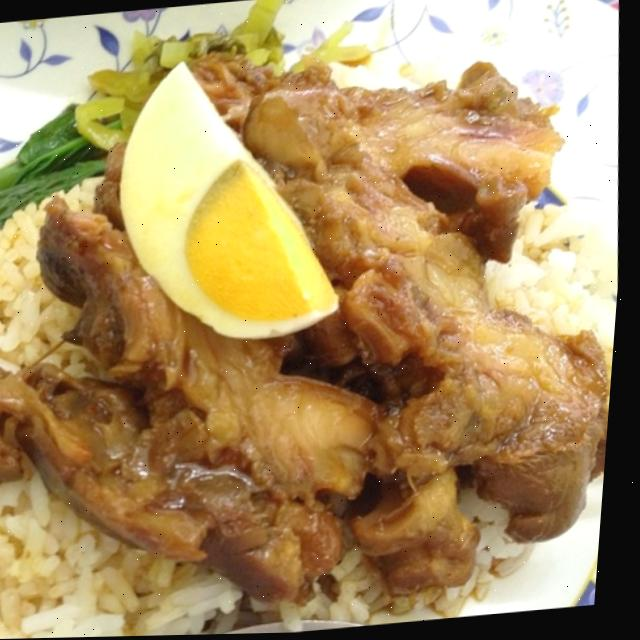猪肉菜式: (0, 6, 615, 638)
